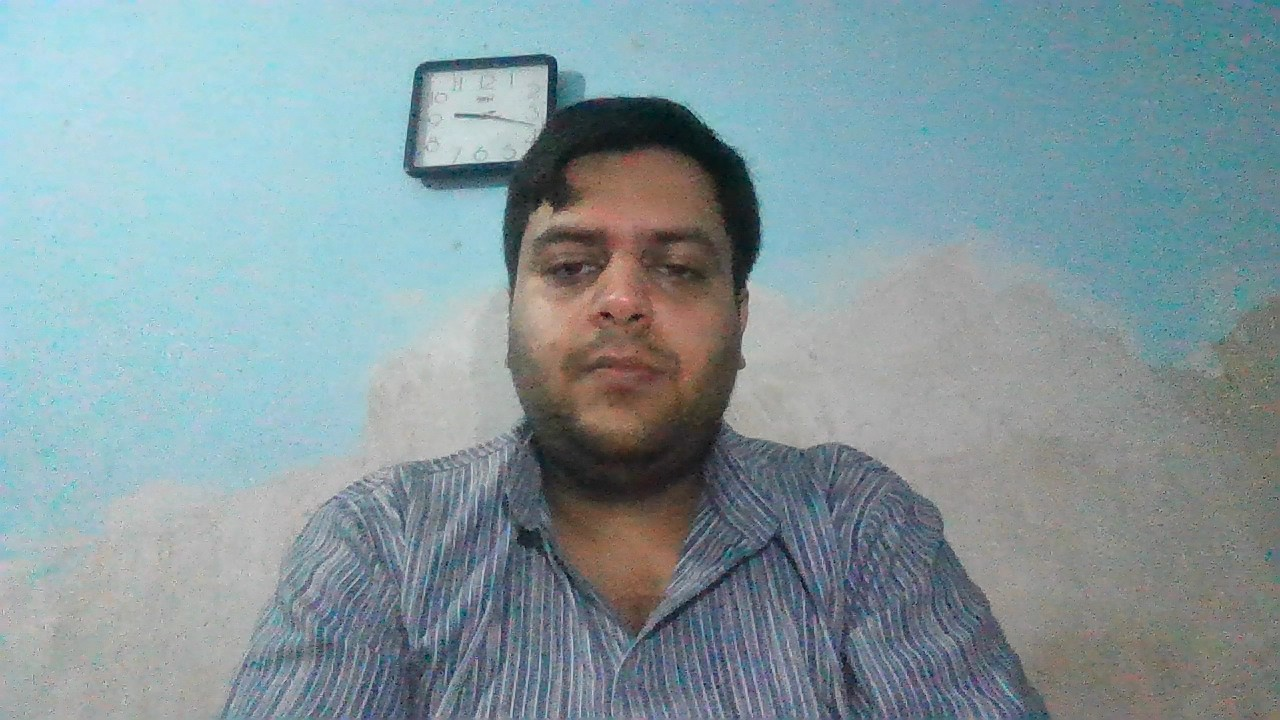No Mask: (501, 281, 750, 488)
